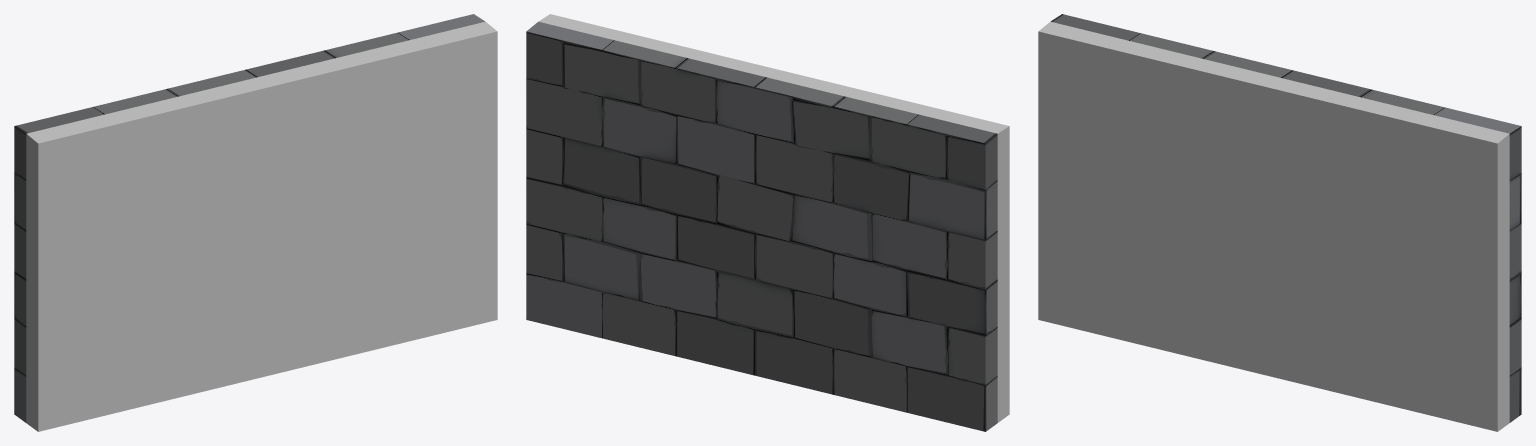
Rendered from SM_Bld_Base_Wall_Half_01.fbx.
The picture shows the model from 3 angles, left to right: view 1: azimuth 30°, elevation 25°; view 2: azimuth 150°, elevation 25°; view 3: azimuth 330°, elevation 25°; orthographic projection.
Visible parts, largest first — view 1: SM_Bld_Base_Wall_Half_01; view 2: SM_Bld_Base_Wall_Half_01; view 3: SM_Bld_Base_Wall_Half_01.
Part boxes in pixels (x1=…): SM_Bld_Base_Wall_Half_01: x1=14, y1=14, x2=497, y2=431; SM_Bld_Base_Wall_Half_01: x1=526, y1=14, x2=1009, y2=431; SM_Bld_Base_Wall_Half_01: x1=1038, y1=14, x2=1521, y2=431.
Size of the model in its own units: 250 by 151 by 22.5.
